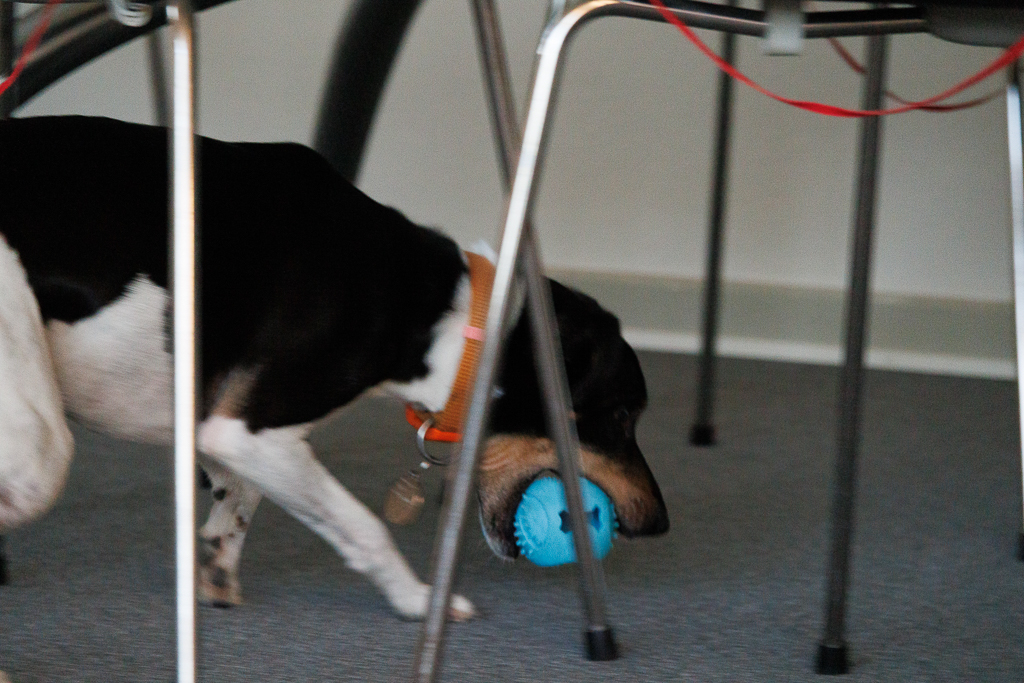Dog: (0, 105, 677, 631)
